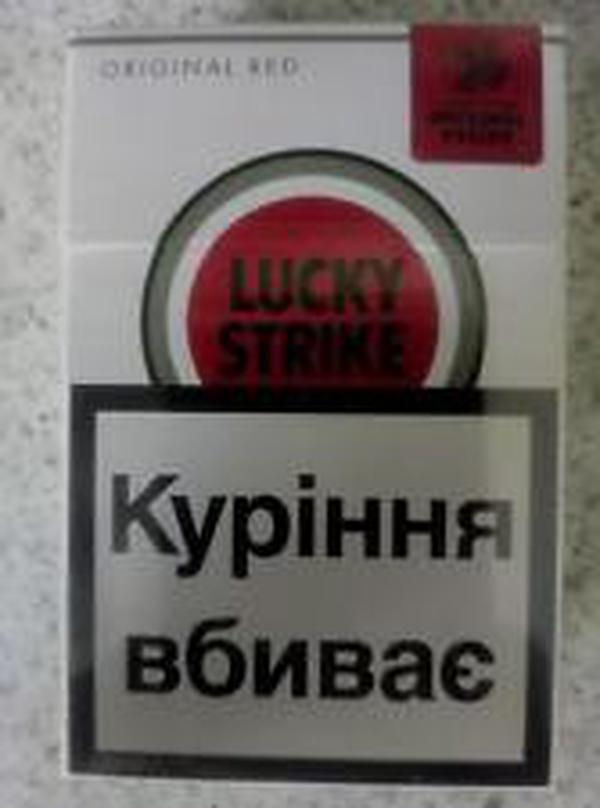lucky_strike_red: (69, 32, 553, 788)
